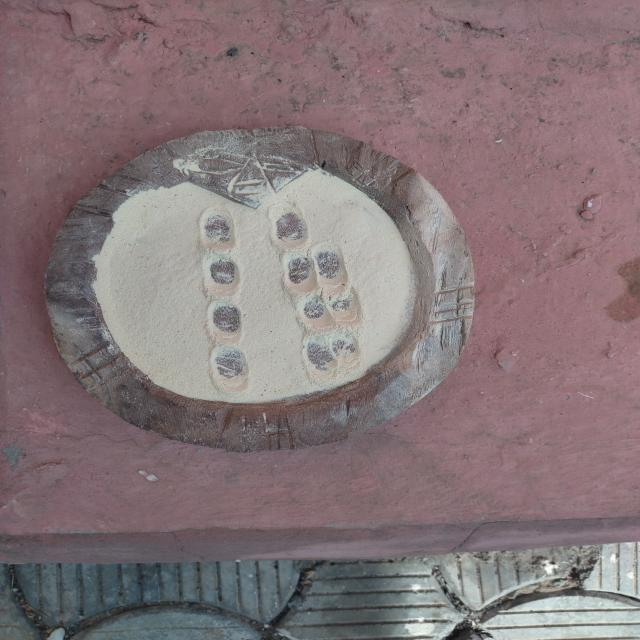double: (278, 246, 354, 294), (300, 330, 364, 383), (296, 290, 364, 325)
single: (198, 251, 246, 301), (210, 346, 252, 400), (266, 200, 312, 249), (197, 206, 240, 256), (205, 300, 248, 346)
